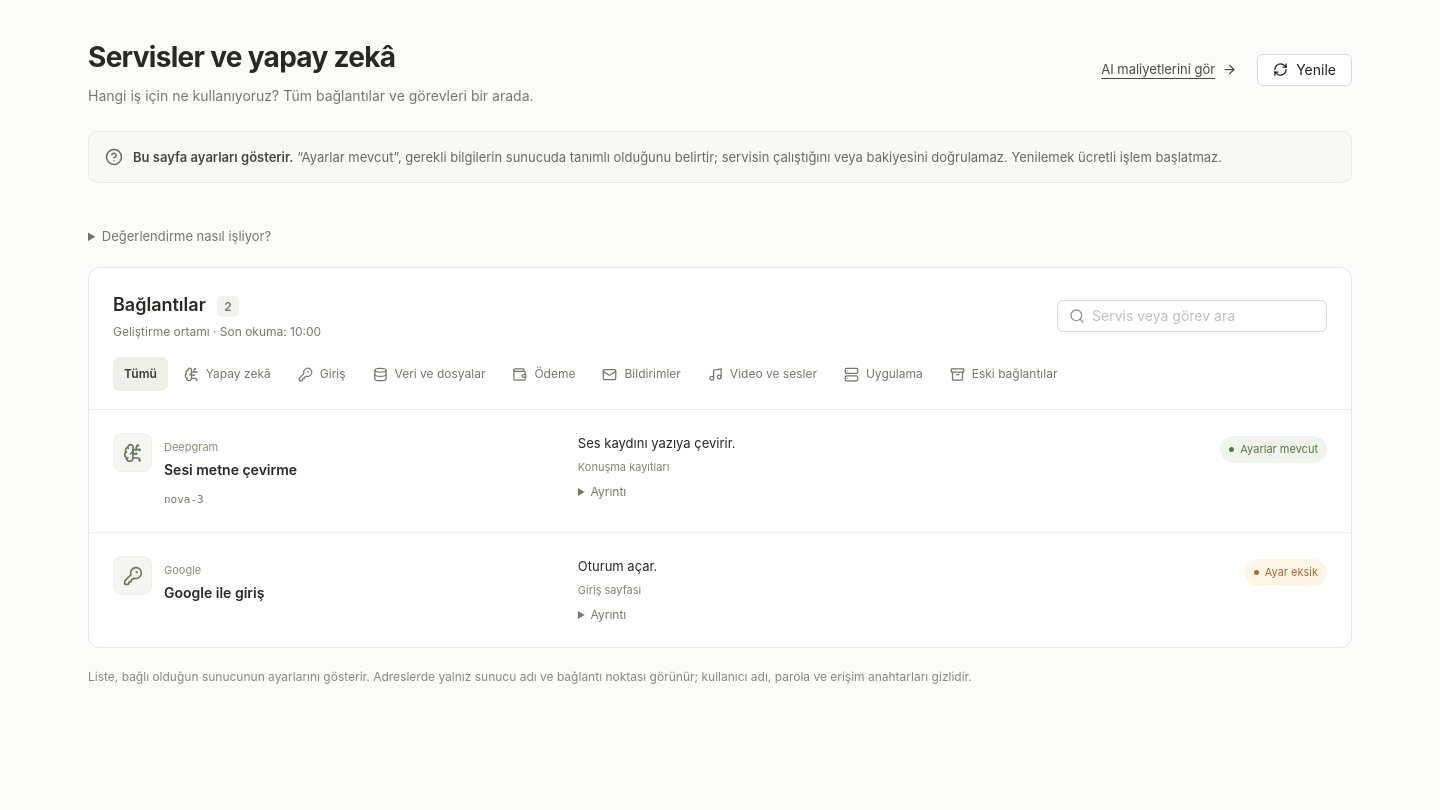
Test: service inventory › explains configuration without claiming a live connection and filters by category
Expected: the text "Ayarlar mevcut" is shown, [1220, 436, 1327, 463]
Expected: the text "Ayar eksik" is shown, [1245, 559, 1327, 586]
Click the button "Giriş": (322, 374) [287, 357, 356, 391]
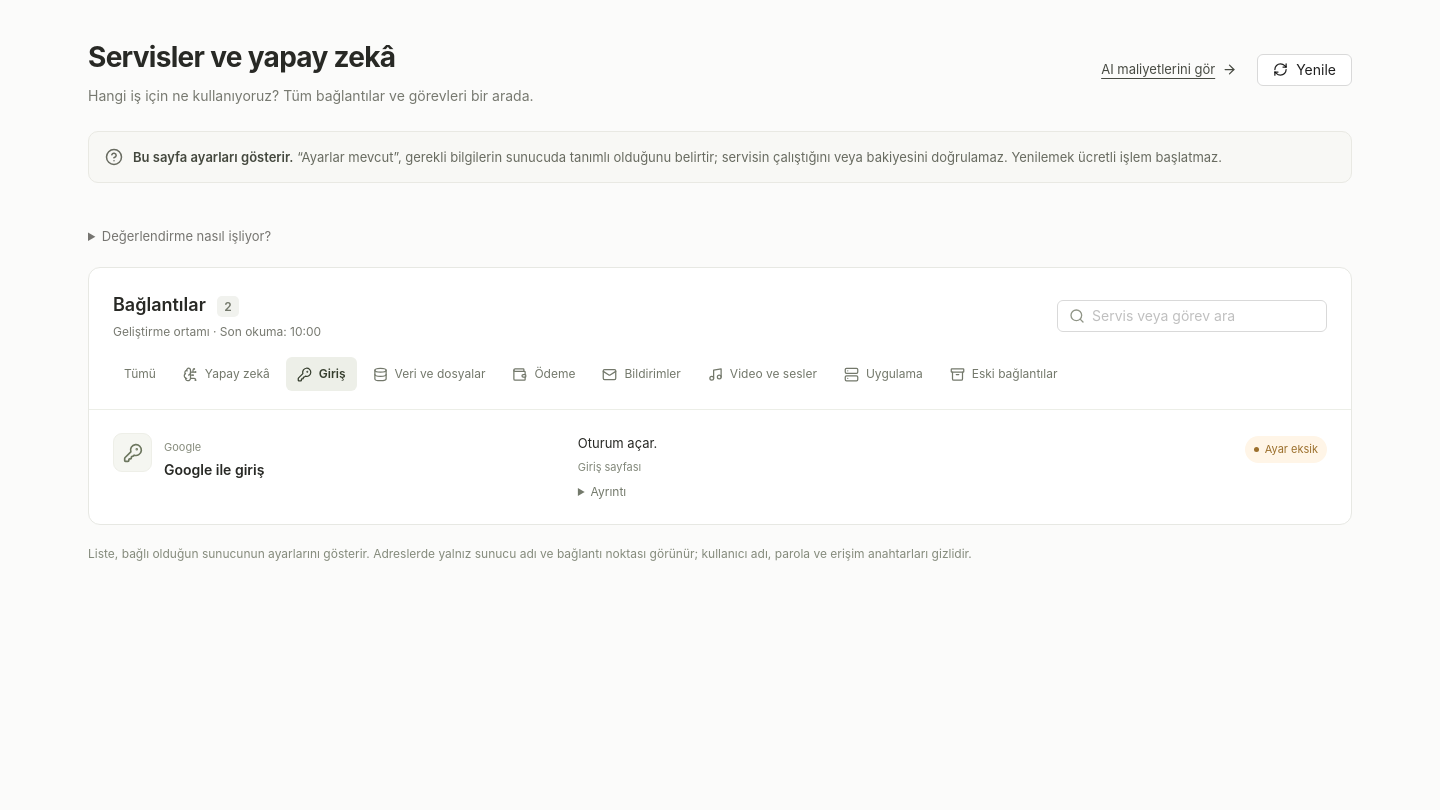
Expected: the heading "Google ile giriş" is shown, [164, 459, 264, 480]
Now the heading "Sesi metne çevirme" is gone
